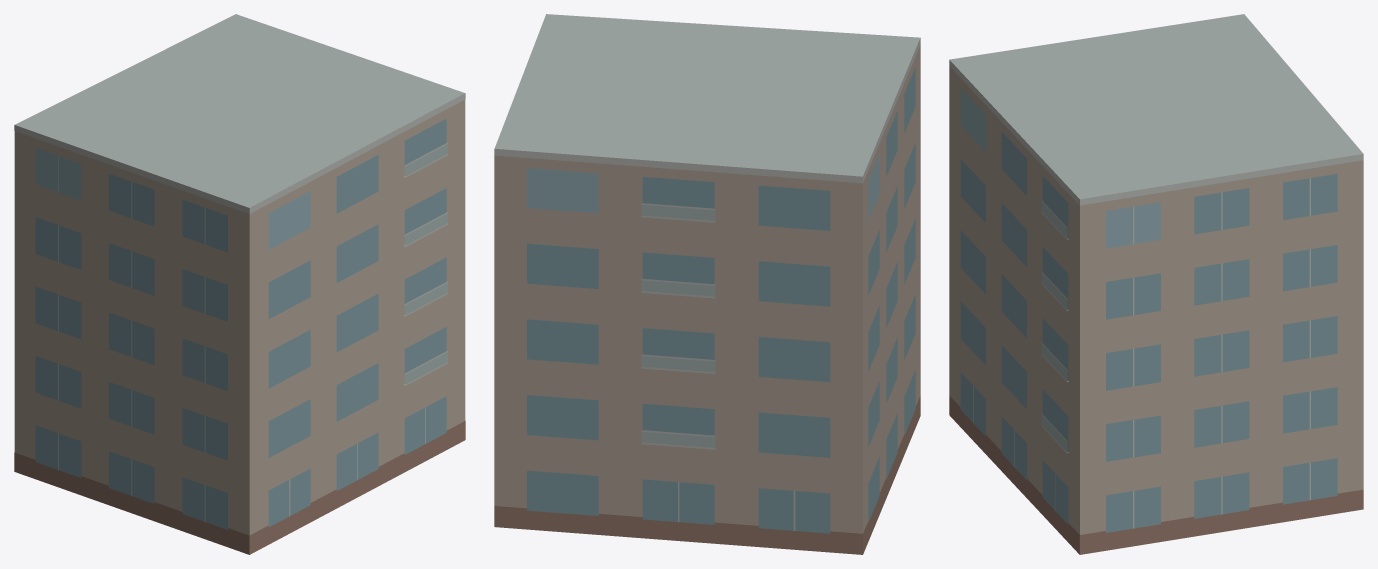
File: survey-upis-32850006.glb
The picture shows the model from 3 angles, left to right: view 1: azimuth 30°, elevation 25°; view 2: azimuth 150°, elevation 25°; view 3: azimuth 270°, elevation 25°; orthographic projection. The views are drawn at different scales.
Visible parts, largest first — view 1: survey-upis-32850006.tmp; view 2: survey-upis-32850006.tmp; view 3: survey-upis-32850006.tmp.
Part boxes in pixels (x1,y1,x2,y2): survey-upis-32850006.tmp: [14, 14, 465, 554]; survey-upis-32850006.tmp: [494, 14, 920, 554]; survey-upis-32850006.tmp: [949, 14, 1363, 554].
Size of the model in its own units: 15.44 by 13.8 by 14.59.
